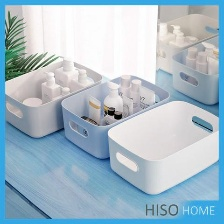plastic_box: (102, 95, 218, 198), (54, 69, 172, 164), (4, 53, 108, 142), (151, 7, 220, 78), (166, 30, 219, 108)
